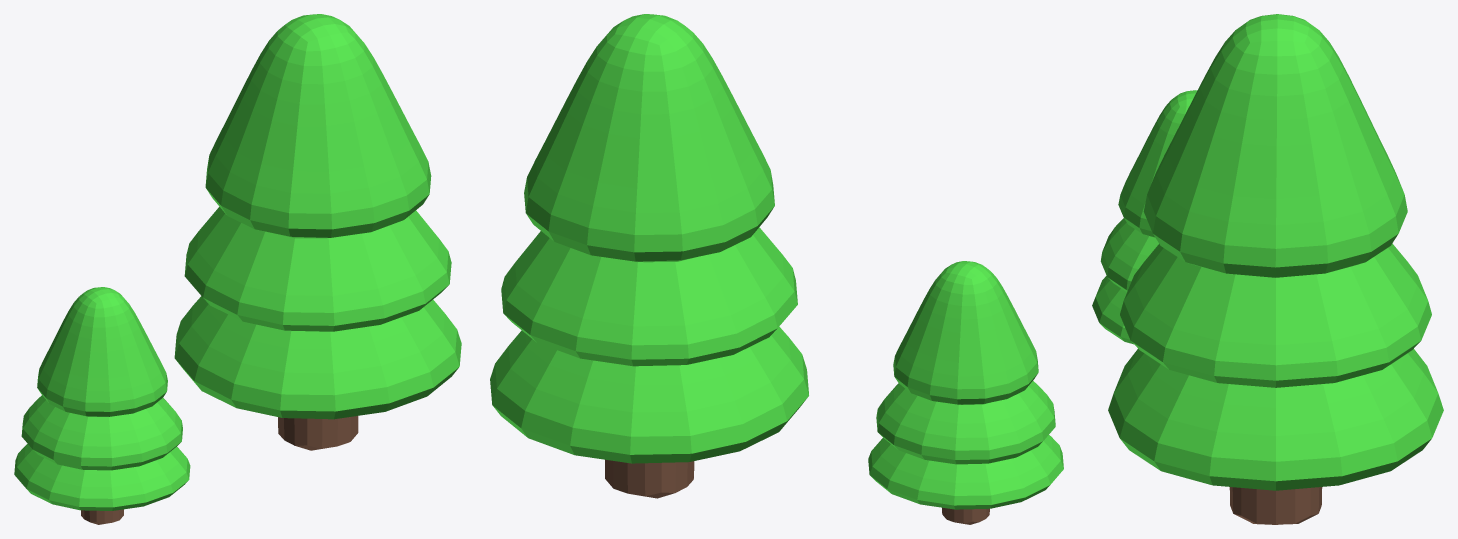
Rendered from Pohon cemara.fbx.
3 views of the same model, side by side, from view 1: azimuth 30°, elevation 25°; view 2: azimuth 150°, elevation 25°; view 3: azimuth 270°, elevation 25° (orthographic). The views are drawn at different scales.
Visible parts, largest first — view 1: Cube.055, Cube.109; view 2: Cube.055, Cube.109; view 3: Cube.055, Cube.109.
Boxes of the visible parts, x1,y1,x2,y2 form: Cube.055: [174, 14, 461, 450]; Cube.109: [14, 287, 190, 524]; Cube.055: [490, 14, 808, 498]; Cube.109: [868, 261, 1063, 524]; Cube.055: [1108, 14, 1443, 524]; Cube.109: [1092, 90, 1197, 344].
Bounding box in the file's own units: 3184 × 2846 × 1836.
